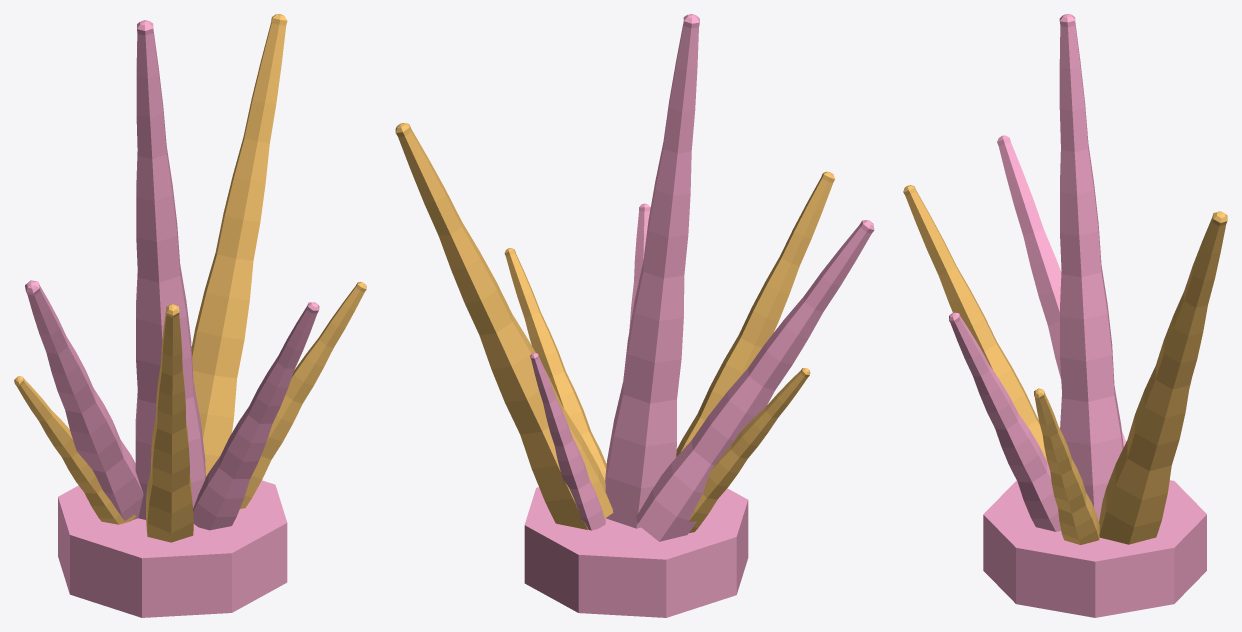
The model's file is Underwater.fbx.
3 renders of one model, left to right at view 1: azimuth 30°, elevation 25°; view 2: azimuth 150°, elevation 25°; view 3: azimuth 270°, elevation 25°, orthographic. The views are drawn at different scales.
Parts seen in each view (by area): view 1: Coral_Base_Pink, Coral_Pink_01, Coral_Orange_01, Coral_Pink_02, Coral_Orange_02, Coral_Pink_03, Coral_Orange_03, Coral_Orange_04; view 2: Coral_Pink_01, Coral_Base_Pink, Coral_Orange_01, Coral_Pink_02, Coral_Orange_02, Coral_Orange_03, Coral_Orange_04, Coral_Pink_04, Coral_Pink_03; view 3: Coral_Pink_01, Coral_Base_Pink, Coral_Orange_01, Coral_Pink_03, Coral_Orange_02, Coral_Pink_02, Coral_Orange_03.
Boxes of the visible parts, <box> form: Coral_Base_Pink: <box>58,480,287,617</box>; Coral_Pink_01: <box>135,20,205,519</box>; Coral_Orange_01: <box>191,14,287,476</box>; Coral_Pink_02: <box>25,280,143,520</box>; Coral_Orange_02: <box>146,303,193,542</box>; Coral_Pink_03: <box>193,302,319,530</box>; Coral_Orange_03: <box>240,282,366,508</box>; Coral_Orange_04: <box>14,376,135,524</box>; Coral_Pink_01: <box>605,14,699,528</box>; Coral_Base_Pink: <box>524,487,748,617</box>; Coral_Orange_01: <box>395,123,613,529</box>; Coral_Pink_02: <box>636,220,874,541</box>; Coral_Orange_02: <box>676,171,834,456</box>; Coral_Orange_03: <box>504,248,606,480</box>; Coral_Orange_04: <box>689,368,810,532</box>; Coral_Pink_04: <box>530,353,605,530</box>; Coral_Pink_03: <box>629,203,650,330</box>; Coral_Pink_01: <box>1059,14,1123,521</box>; Coral_Base_Pink: <box>983,480,1206,617</box>; Coral_Orange_01: <box>1099,211,1227,544</box>; Coral_Pink_03: <box>949,312,1060,531</box>; Coral_Orange_02: <box>903,185,1047,461</box>; Coral_Pink_02: <box>997,135,1125,446</box>; Coral_Orange_03: <box>1034,388,1099,544</box>.
Bounding box in the file's own units: 329 × 476 × 261.
